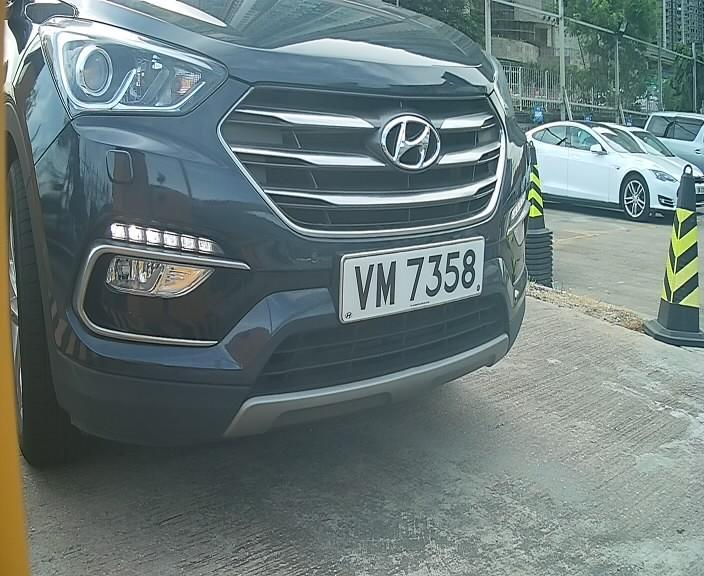privatecar: (13, 11, 560, 443)
